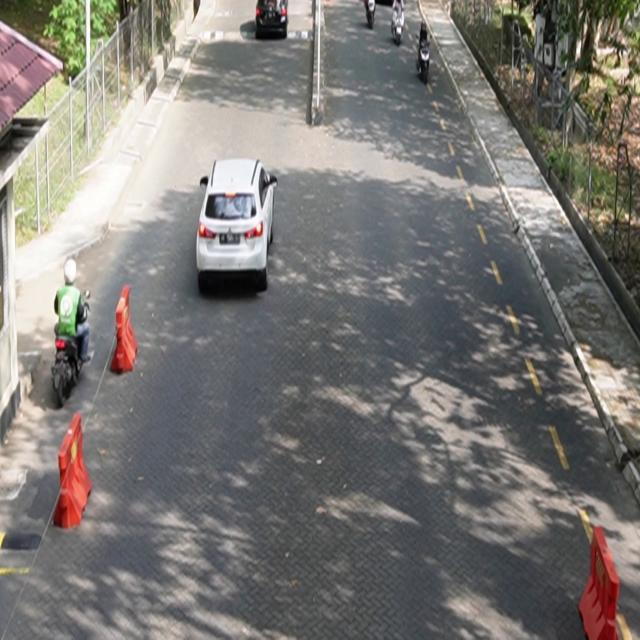car: (197, 158, 279, 293), (257, 1, 290, 40)
